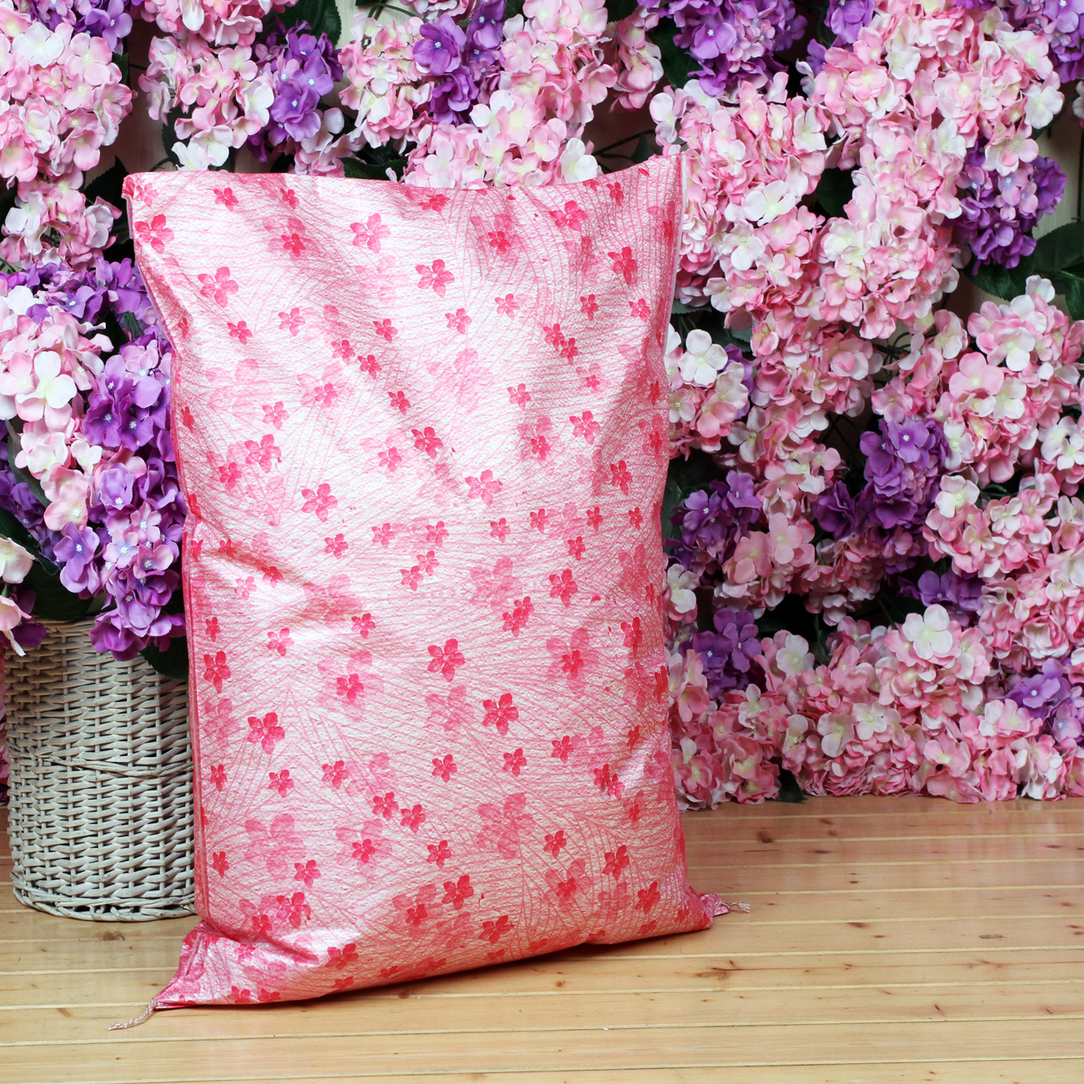Parcel: (126, 159, 718, 1005)
